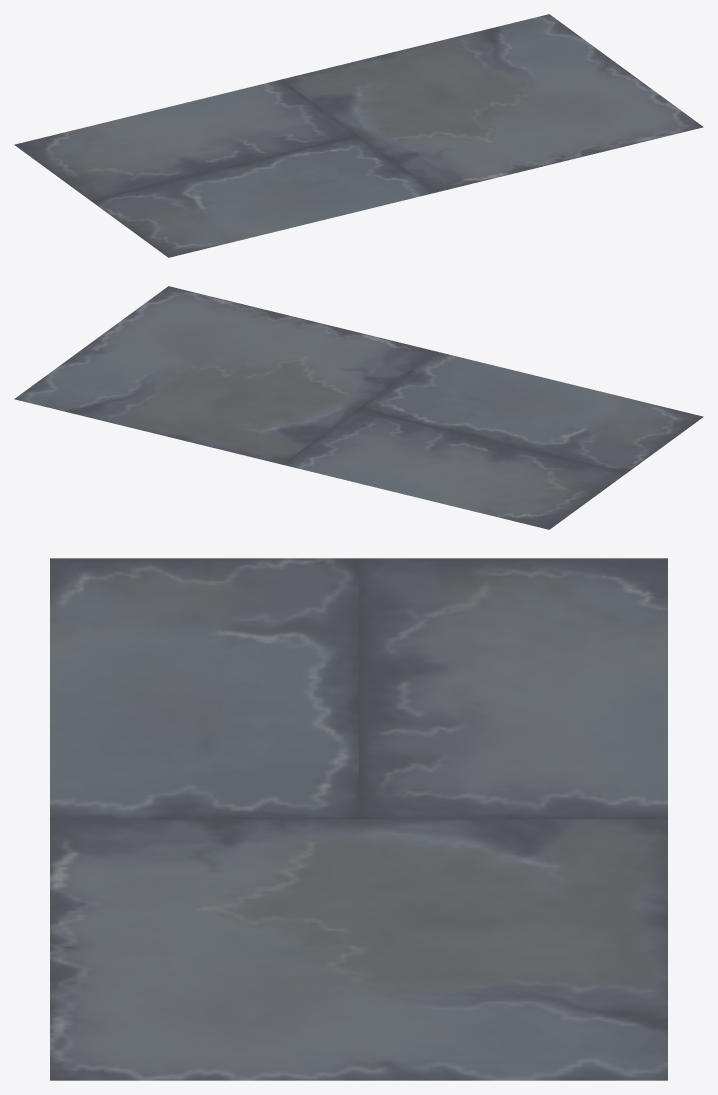
File: Castle Ground X Bright 2x1.fbx
The picture shows the model from 3 angles, top to bottom: view 1: azimuth 30°, elevation 25°; view 2: azimuth 150°, elevation 25°; view 3: azimuth 270°, elevation 25°; orthographic projection. The views are drawn at different scales.
Visible parts, largest first — view 1: Castle Ground X Bright 2x1; view 2: Castle Ground X Bright 2x1; view 3: Castle Ground X Bright 2x1.
Boxes of the visible parts, x1,y1,x2,y2 form: Castle Ground X Bright 2x1: (14,14,703,257); Castle Ground X Bright 2x1: (14,286,703,529); Castle Ground X Bright 2x1: (50,558,667,1080).
Size of the model in its own units: 1.5 by 1.79e-07 by 0.75.
